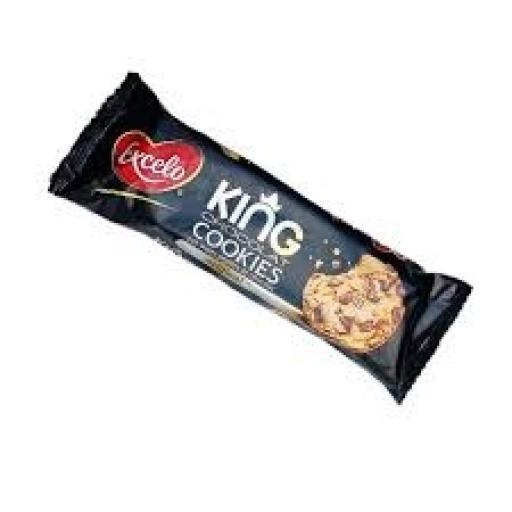king-cooking: (59, 51, 456, 383)
